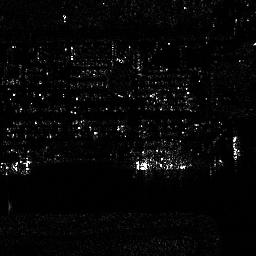ship: (131, 159, 193, 172), (231, 135, 239, 160)
